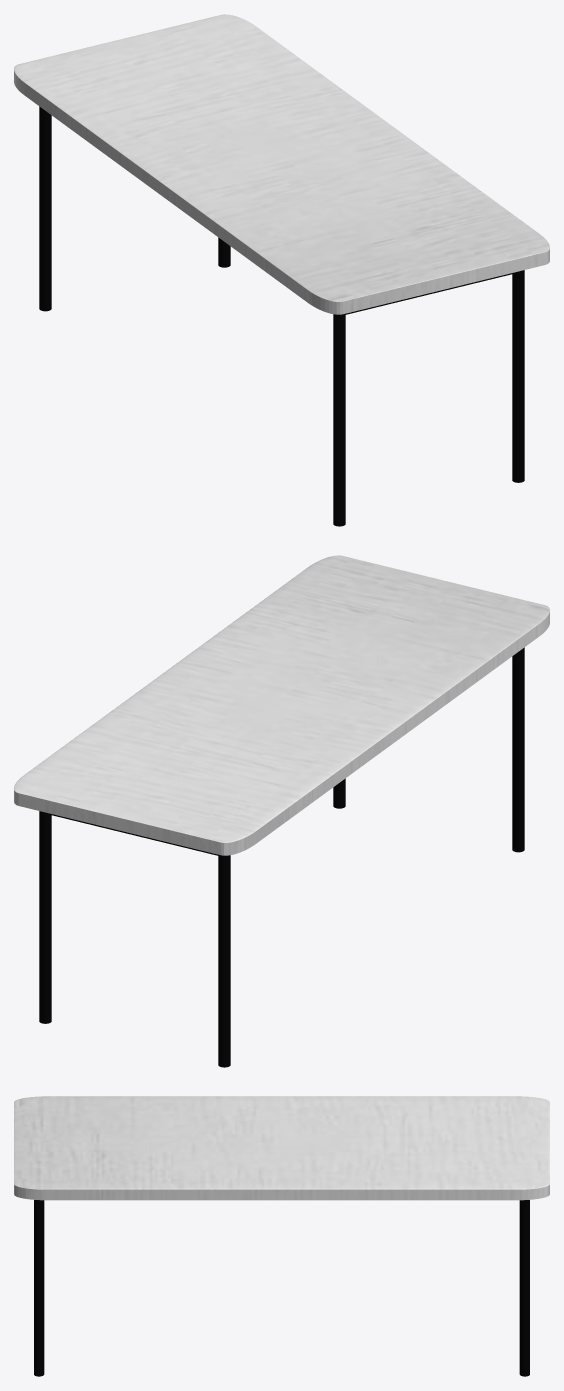
File: table.dae
3 views of the same model, one above another, from view 1: azimuth 30°, elevation 25°; view 2: azimuth 150°, elevation 25°; view 3: azimuth 270°, elevation 25° (orthographic). The views are drawn at different scales.
Parts seen in each view (by area): view 1: table_top, table_legs; view 2: table_top, table_legs; view 3: table_top, table_legs.
Boxes of the visible parts, left/top/right/bottom form: table_top: left=14, top=14, right=549, bottom=314; table_legs: left=39, top=106, right=524, bottom=526; table_top: left=14, top=555, right=549, bottom=855; table_legs: left=39, top=647, right=524, bottom=1067; table_top: left=14, top=1096, right=549, bottom=1200; table_legs: left=34, top=1200, right=529, bottom=1376.
Size of the model in its own units: 0.75 by 1.82 by 0.7342.
2 materials, 1 textured.
